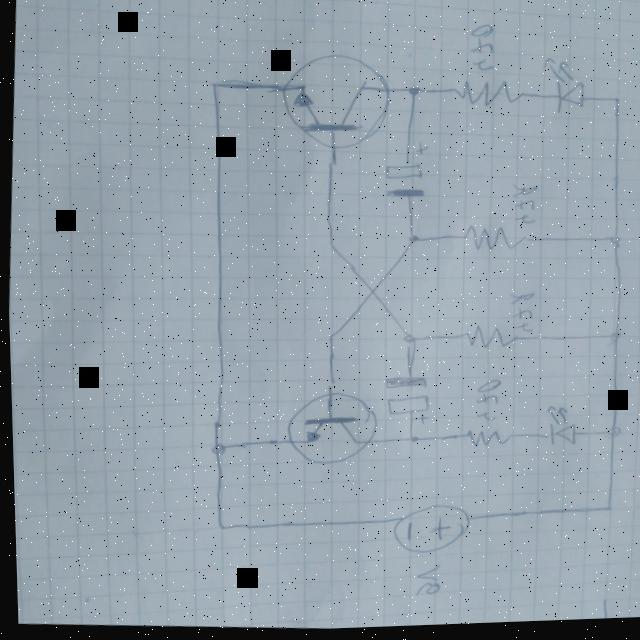capacitor: (380, 144, 430, 203), (378, 376, 430, 429)
crossover: (353, 277, 386, 308)
diode: (536, 58, 591, 123), (536, 407, 578, 452)
junction: (395, 73, 429, 109), (392, 325, 421, 351), (397, 228, 424, 254), (592, 500, 619, 523), (598, 234, 627, 255), (202, 438, 229, 459), (205, 518, 232, 539), (600, 330, 625, 352), (599, 428, 626, 447), (397, 431, 421, 452), (601, 96, 627, 114), (319, 237, 338, 255), (203, 79, 222, 96), (321, 330, 337, 346)
resistor: (443, 75, 534, 119), (451, 225, 531, 257), (451, 326, 521, 356), (456, 428, 515, 453)
source: (388, 503, 470, 560)
text: (464, 22, 501, 79), (505, 184, 541, 231), (503, 291, 536, 338), (471, 379, 501, 425), (407, 563, 440, 601)
transistor: (277, 50, 395, 156), (280, 389, 380, 470)
